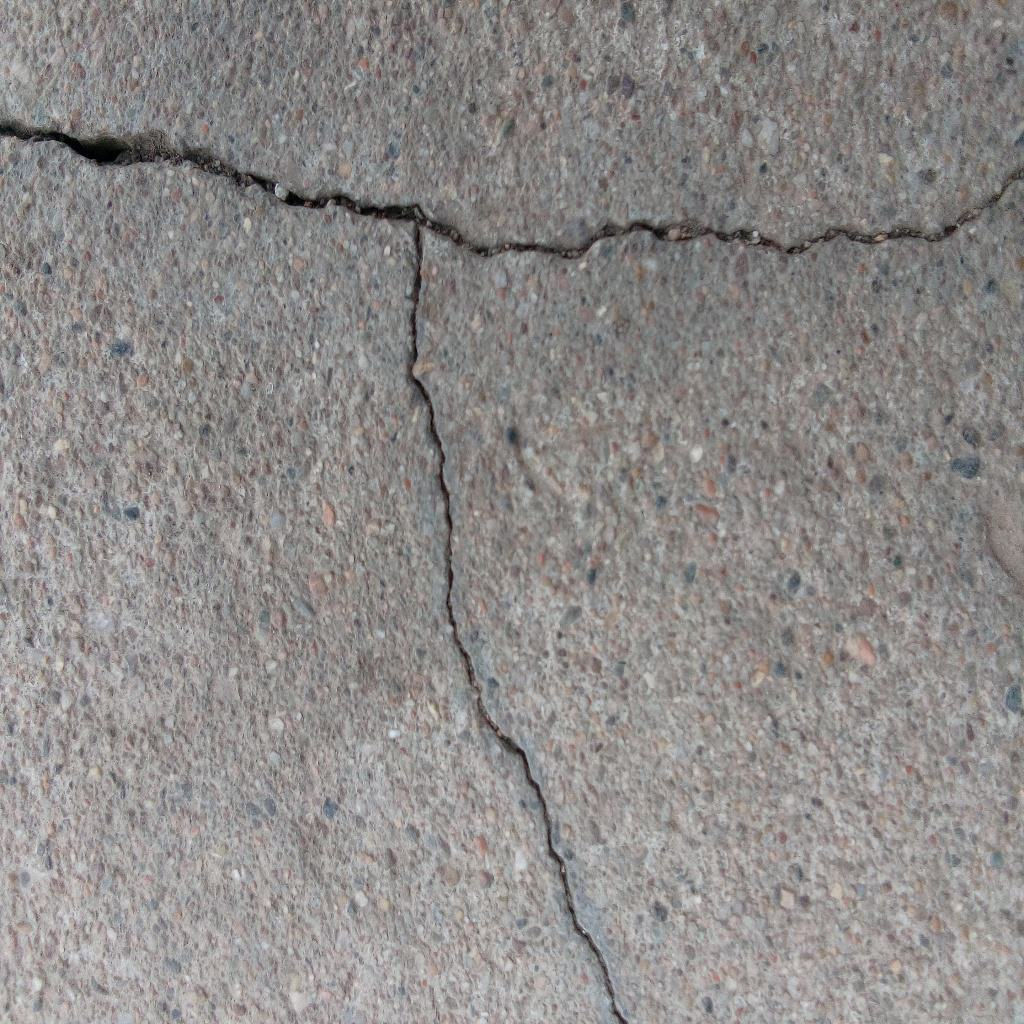Crack: (407, 228, 627, 1024), (422, 165, 1024, 261), (1, 117, 422, 228)
